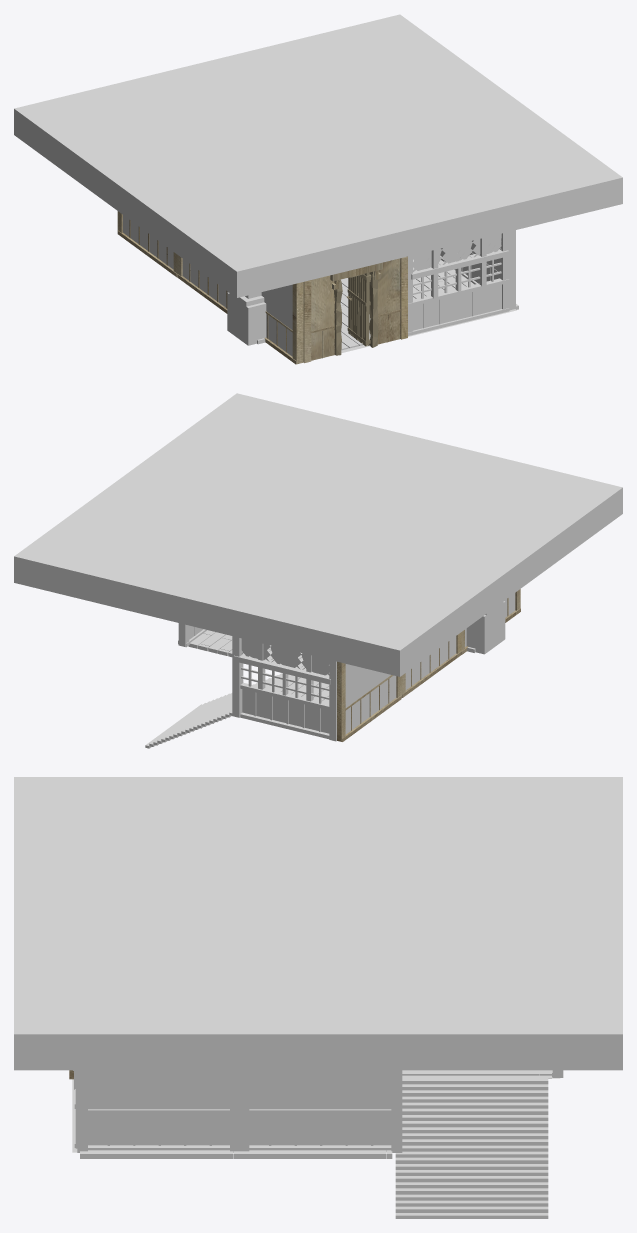
File: scenefather and son .fbx
3 views of the same model, one above another, from view 1: azimuth 30°, elevation 25°; view 2: azimuth 150°, elevation 25°; view 3: azimuth 270°, elevation 25° (orthographic). The views are drawn at different scales.
Visible parts, largest first — view 1: 平面.046, 平面.025, 平面.039, 平面.036, 立方体.000, 平面.024, 平面.014, 平面.026, 立方体.002, 平面.015, 平面.040, 平面.022 (+7 smaller); view 2: 平面.046, 平面.030, 平面.022, 平面.027, 立方体, 平面.023, 立方体.002, 立方体.000, 平面.031, 平面.016, 平面.029, 平面.019 (+2 smaller); view 3: 平面.046, 立方体, 平面.044, 平面.042, 平面.043, 平面.045, 立方体.002, 平面.011.
Boxes of the visible parts, box(x1,y1,x2,y2) form: 平面.046: box(14, 14, 622, 297); 平面.025: box(311, 258, 400, 360); 平面.039: box(408, 231, 509, 335); 平面.036: box(413, 284, 501, 330); 立方体.000: box(227, 292, 266, 345); 平面.024: box(303, 256, 407, 363); 平面.014: box(261, 284, 292, 356); 平面.026: box(346, 272, 371, 346); 立方体.002: box(340, 259, 518, 350); 平面.015: box(264, 282, 303, 364); 平面.040: box(413, 233, 501, 271); 平面.022: box(123, 215, 173, 269); 平面.046: box(14, 393, 622, 676); 平面.030: box(232, 636, 336, 741); 平面.022: box(345, 664, 396, 734); 平面.027: box(242, 689, 329, 733); 立方体: box(145, 673, 282, 748); 平面.023: box(337, 661, 401, 741); 立方体.002: box(178, 630, 329, 703); 立方体.000: box(466, 601, 505, 654); 平面.031: box(241, 638, 329, 675); 平面.016: box(405, 636, 456, 689); 平面.029: box(233, 653, 330, 684); 平面.019: box(401, 632, 461, 697); 平面.046: box(14, 777, 622, 1070); 立方体: box(395, 1078, 548, 1218); 平面.044: box(249, 1070, 391, 1145); 平面.042: box(88, 1070, 229, 1145); 平面.043: box(77, 1070, 240, 1152); 平面.045: box(240, 1070, 402, 1152); 立方体.002: box(80, 1070, 551, 1158); 平面.011: box(72, 1070, 560, 1152).
Size of the model in its own units: 1173 by 540 by 1173.
